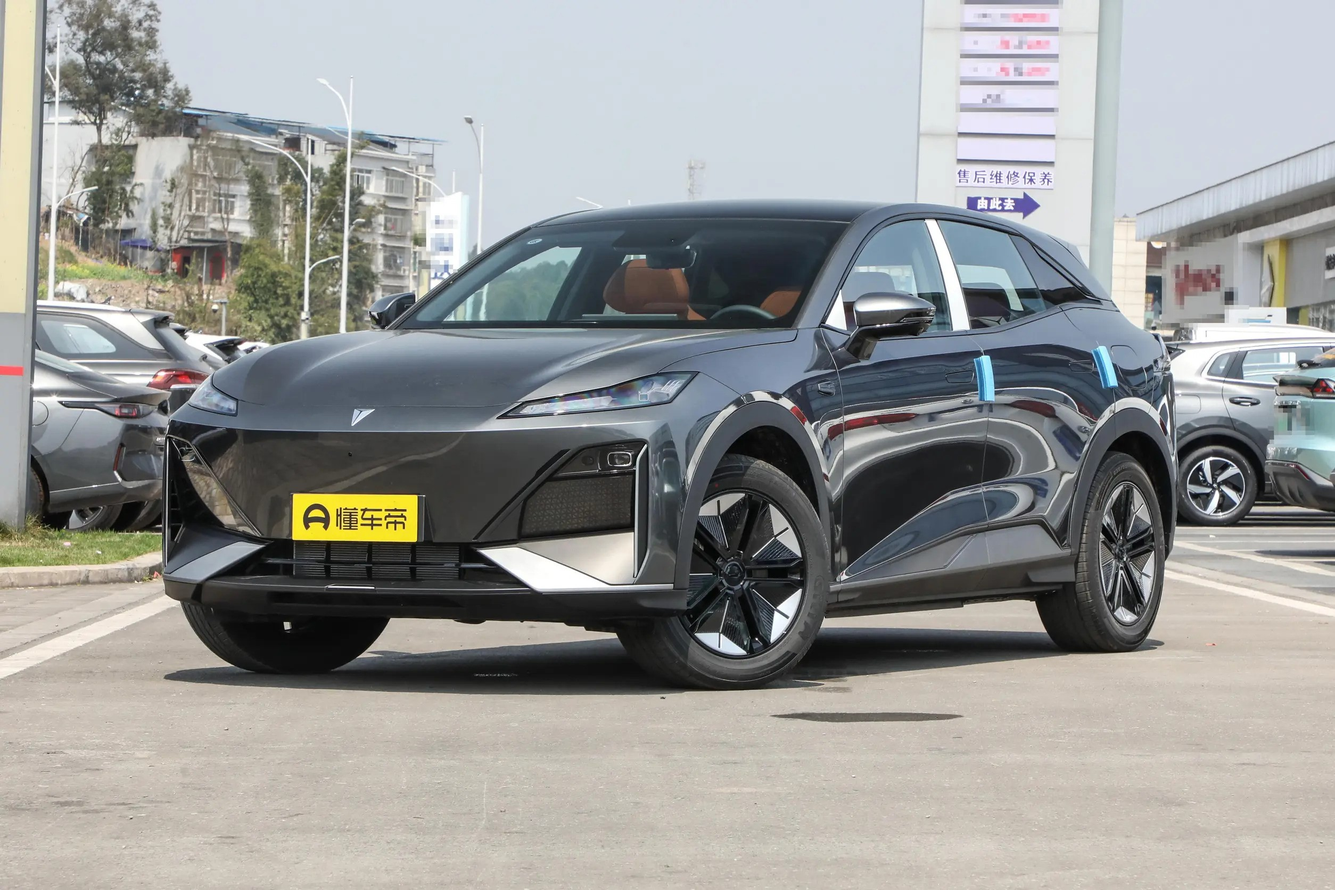Deepal: (351, 408, 375, 425)
